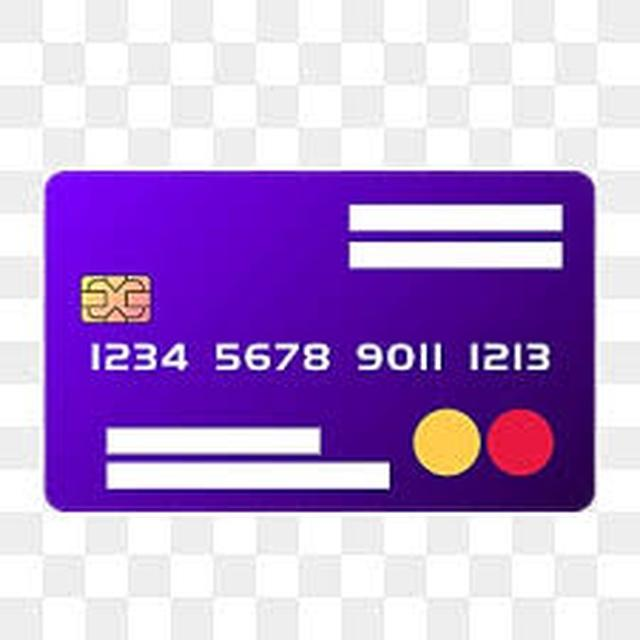card: (40, 159, 607, 522)
